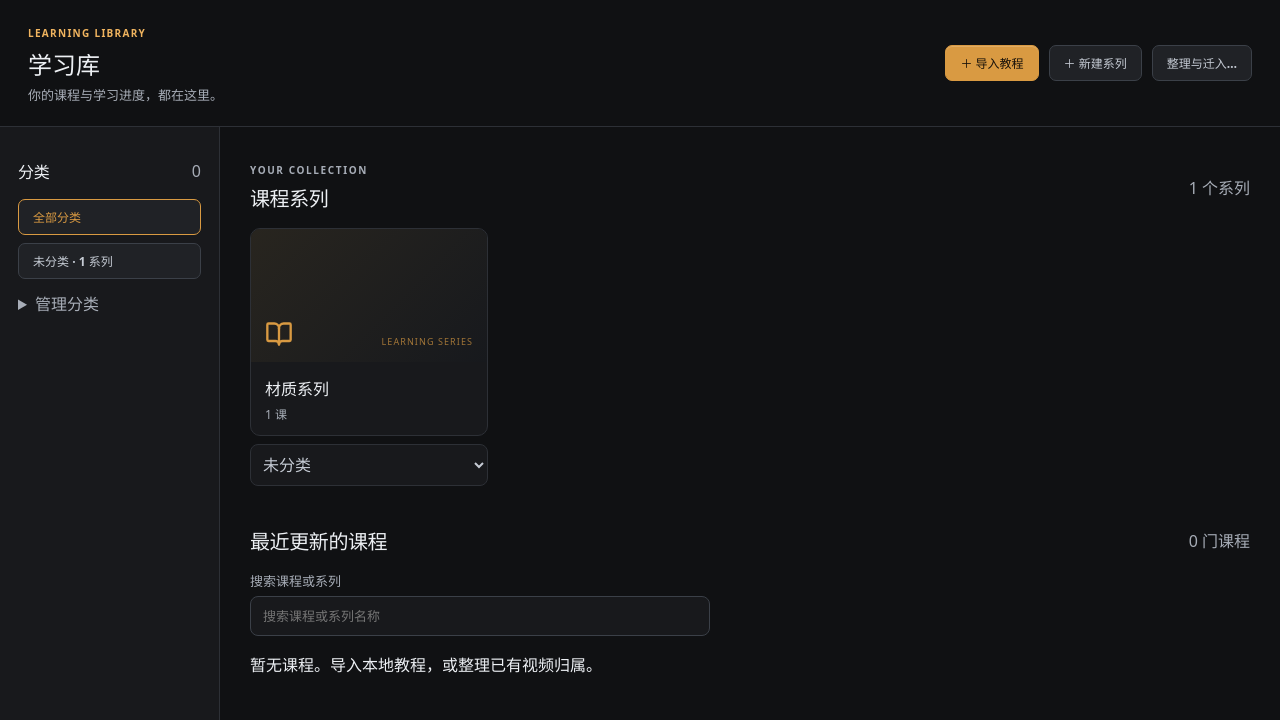
Test: reports unavailable series courses instead of inventing progress
Click the button with aria-label "材质系列 · 1 课" at (369, 332), box [250, 228, 488, 436]
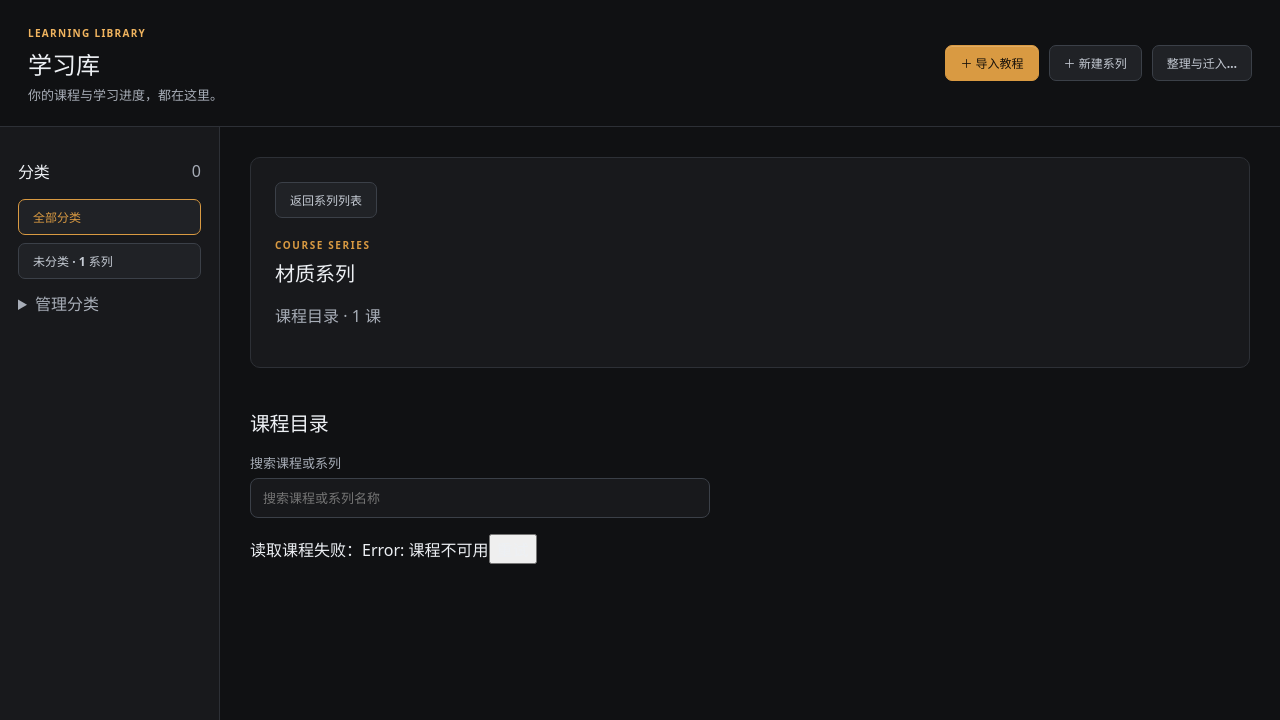
Result: the message shows "课程不可用" at [362, 539, 488, 561]
